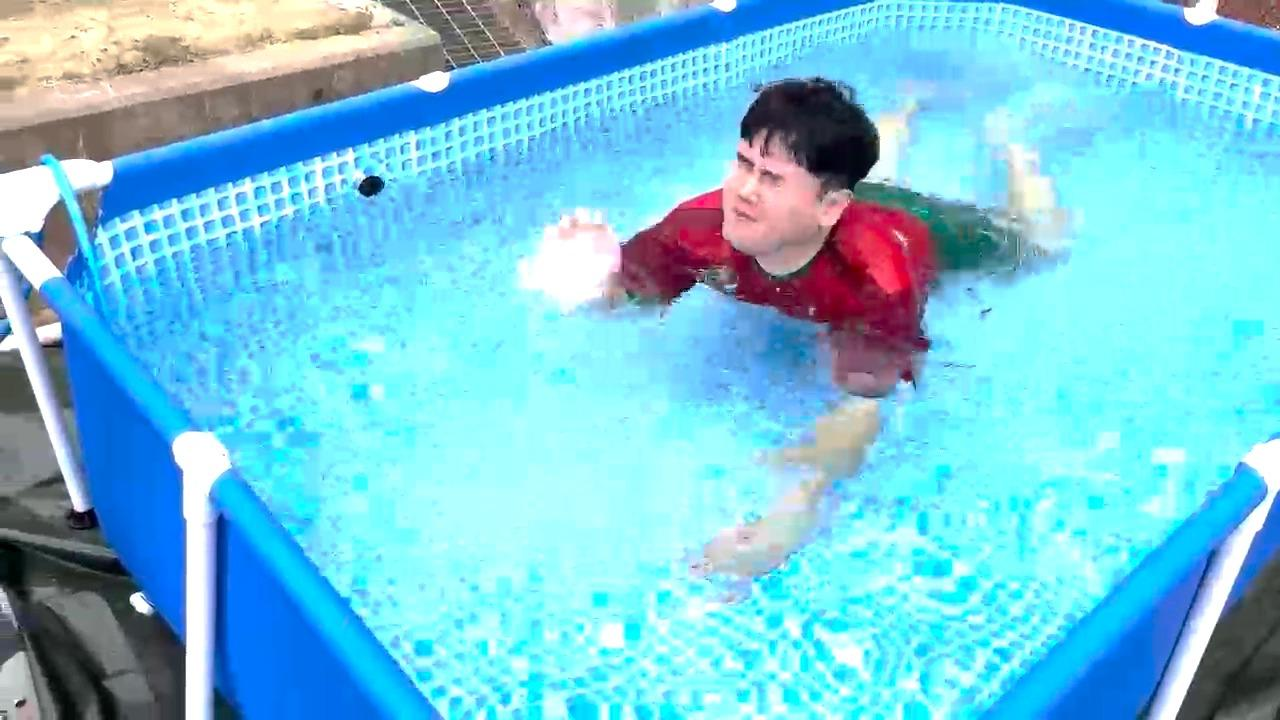Drowning: (502, 23, 1140, 568)
